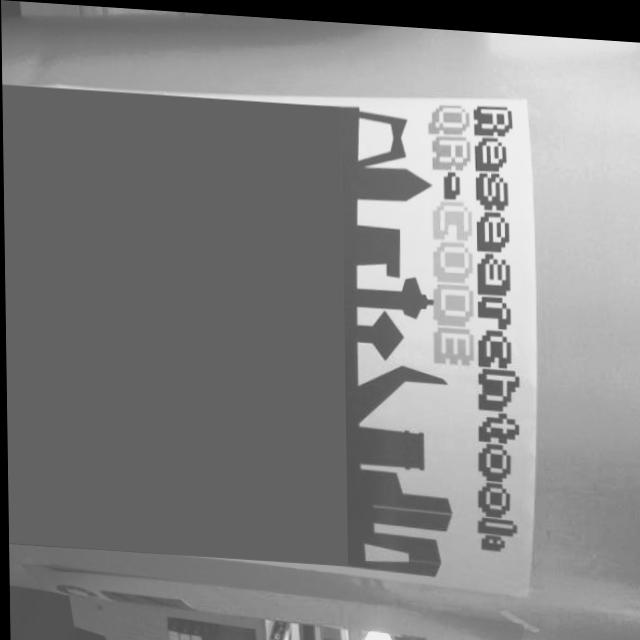qr_code: (1, 84, 345, 561)
